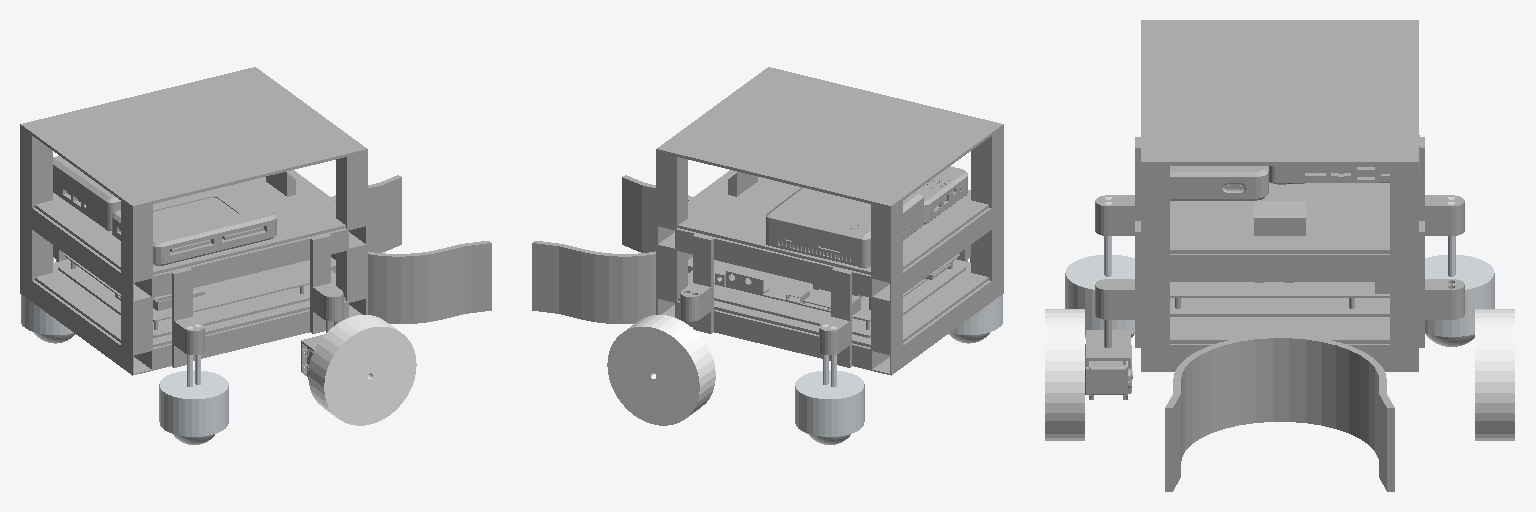
The robot description file, URDF, robot "model":
<?xml version="1.0" encoding="utf-8"?>
<!-- This URDF was automatically created by SolidWorks to URDF Exporter! Originally created by [author] ([email redacted]) 
     Commit Version: 1.5.1-0-g916b5db  Build Version: 1.5.7152.31018
     For more information, please see http://wiki.ros.org/sw_urdf_exporter -->
<robot
  name="model">
  <link
    name="base_link">
    <inertial>
      <origin
        xyz="-0.081169 0.0021174 -0.095903"
        rpy="0 0 0" />
      <mass
        value="2.6044" />
      <inertia
        ixx="0.0048774"
        ixy="-4.1979E-07"
        ixz="9.09E-06"
        iyy="0.0056126"
        iyz="-3.2255E-07"
        izz="0.0098576" />
    </inertial>
    <visual>
      <origin
        xyz="0 0 0"
        rpy="0 0 0" />
      <geometry>
        <mesh
          filename="package://model/meshes/base_link.STL" />
      </geometry>
      <material
        name="">
        <color
          rgba="0.75294 0.75294 0.75294 1" />
      </material>
    </visual>
    <collision>
      <origin
        xyz="0 0 0"
        rpy="0 0 0" />
      <geometry>
        <mesh
          filename="package://model/meshes/base_link.STL" />
      </geometry>
    </collision>
  </link>
  <link
    name="LFS">
    <inertial>
      <origin
        xyz="0.045553 -0.06062 0.0031624"
        rpy="0 0 0" />
      <mass
        value="0.060681" />
      <inertia
        ixx="1.7187E-05"
        ixy="-1.6485E-08"
        ixz="-1.5645E-07"
        iyy="1.5791E-05"
        iyz="2.9641E-09"
        izz="1.3493E-05" />
    </inertial>
    <visual>
      <origin
        xyz="0 0 0"
        rpy="0 0 0" />
      <geometry>
        <mesh
          filename="package://model/meshes/LFS.STL" />
      </geometry>
      <material
        name="">
        <color
          rgba="0.75294 0.75294 0.75294 1" />
      </material>
    </visual>
    <collision>
      <origin
        xyz="0 0 0"
        rpy="0 0 0" />
      <geometry>
        <mesh
          filename="package://model/meshes/LFS.STL" />
      </geometry>
    </collision>
  </link>
  <joint
    name="LFS"
    type="prismatic">
    <origin
      xyz="-0.0088681 0.084404 -0.1235"
      rpy="1.5708 0 1.5708" />
    <parent
      link="base_link" />
    <child
      link="LFS" />
    <axis
      xyz="0 1 0" />
    <limit
      lower="0"
      upper="0"
      effort="0"
      velocity="0" />
  </joint>
  <link
    name="LFW">
    <inertial>
      <origin
        xyz="0.015 0 0"
        rpy="0 0 0" />
      <mass
        value="0.23932" />
      <inertia
        ixx="0.00030041"
        ixy="-3.498E-37"
        ixz="-2.0379E-37"
        iyy="0.00016815"
        iyz="2.5027E-39"
        izz="0.00016815" />
    </inertial>
    <visual>
      <origin
        xyz="0 0 0"
        rpy="0 0 0" />
      <geometry>
        <mesh
          filename="package://model/meshes/LFW.STL" />
      </geometry>
      <material
        name="">
        <color
          rgba="1 1 1 1" />
      </material>
    </visual>
    <collision>
      <origin
        xyz="0 0 0"
        rpy="0 0 0" />
      <geometry>
        <mesh
          filename="package://model/meshes/LFW.STL" />
      </geometry>
    </collision>
  </link>
  <joint
    name="LFW"
    type="continuous">
    <origin
      xyz="0.063346 -0.069801 0.015044"
      rpy="0 0 0" />
    <parent
      link="LFS" />
    <child
      link="LFW" />
    <axis
      xyz="1 0 0" />
  </joint>
  <link
    name="RFS">
    <inertial>
      <origin
        xyz="-0.019176 -0.060658 0.052192"
        rpy="0 0 0" />
      <mass
        value="0.060681" />
      <inertia
        ixx="1.7187E-05"
        ixy="-1.6485E-08"
        ixz="1.5645E-07"
        iyy="1.5791E-05"
        iyz="-2.9641E-09"
        izz="1.3493E-05" />
    </inertial>
    <visual>
      <origin
        xyz="0 0 0"
        rpy="0 0 0" />
      <geometry>
        <mesh
          filename="package://model/meshes/RFS.STL" />
      </geometry>
      <material
        name="">
        <color
          rgba="0.75294 0.75294 0.75294 1" />
      </material>
    </visual>
    <collision>
      <origin
        xyz="0 0 0"
        rpy="0 0 0" />
      <geometry>
        <mesh
          filename="package://model/meshes/RFS.STL" />
      </geometry>
    </collision>
  </link>
  <joint
    name="RFS"
    type="prismatic">
    <origin
      xyz="-0.057897 -0.11078 -0.1235"
      rpy="1.5708 0 1.5708" />
    <parent
      link="base_link" />
    <child
      link="RFS" />
    <axis
      xyz="0 1 0" />
    <limit
      lower="0"
      upper="0"
      effort="0"
      velocity="0" />
  </joint>
  <link
    name="RFW">
    <inertial>
      <origin
        xyz="-0.015 0 0"
        rpy="0 0 0" />
      <mass
        value="0.23932" />
      <inertia
        ixx="0.00030041"
        ixy="-3.498E-37"
        ixz="-1.35E-23"
        iyy="0.00016815"
        iyz="2.5027E-39"
        izz="0.00016815" />
    </inertial>
    <visual>
      <origin
        xyz="0 0 0"
        rpy="0 0 0" />
      <geometry>
        <mesh
          filename="package://model/meshes/RFW.STL" />
      </geometry>
      <material
        name="">
        <color
          rgba="1 1 1 1" />
      </material>
    </visual>
    <collision>
      <origin
        xyz="0 0 0"
        rpy="0 0 0" />
      <geometry>
        <mesh
          filename="package://model/meshes/RFW.STL" />
      </geometry>
    </collision>
  </link>
  <joint
    name="RFW"
    type="continuous">
    <origin
      xyz="-0.036969 -0.069799 0.064073"
      rpy="0 0 0" />
    <parent
      link="RFS" />
    <child
      link="RFW" />
    <axis
      xyz="1 0 0" />
  </joint>
  <link
    name="LBS">
    <inertial>
      <origin
        xyz="0 -0.074083 -2.7756E-17"
        rpy="0 0 0" />
      <mass
        value="0.2491" />
      <inertia
        ixx="0.0001269"
        ixy="-3.8633E-20"
        ixz="-1.4501E-13"
        iyy="0.00015557"
        iyz="-3.1934E-20"
        izz="0.00012707" />
    </inertial>
    <visual>
      <origin
        xyz="0 0 0"
        rpy="0 0 0" />
      <geometry>
        <mesh
          filename="package://model/meshes/LBS.STL" />
      </geometry>
      <material
        name="">
        <color
          rgba="0.89804 0.91765 0.92941 1" />
      </material>
    </visual>
    <collision>
      <origin
        xyz="0 0 0"
        rpy="0 0 0" />
      <geometry>
        <mesh
          filename="package://model/meshes/LBS.STL" />
      </geometry>
    </collision>
  </link>
  <joint
    name="LBS"
    type="prismatic">
    <origin
      xyz="-0.15682 0.13 -0.1235"
      rpy="1.5708 0 1.5708" />
    <parent
      link="base_link" />
    <child
      link="LBS" />
    <axis
      xyz="0 1 0" />
    <limit
      lower="0"
      upper="0"
      effort="0"
      velocity="0" />
  </joint>
  <link
    name="LBW">
    <inertial>
      <origin
        xyz="0 0 -2.77555756156289E-17"
        rpy="0 0 0" />
      <mass
        value="0.175020843969803" />
      <inertia
        ixx="4.38252193300387E-05"
        ixy="-7.23866843780144E-39"
        ixz="5.11152697542854E-41"
        iyy="4.41752610179783E-05"
        iyz="-7.44886776973365E-40"
        izz="4.38252193300387E-05" />
    </inertial>
    <visual>
      <origin
        xyz="0 0 0"
        rpy="0 0 0" />
      <geometry>
        <mesh
          filename="package://model/meshes/LBW.STL" />
      </geometry>
      <material
        name="">
        <color
          rgba="0.898039215686275 0.917647058823529 0.929411764705882 1" />
      </material>
    </visual>
    <collision>
      <origin
        xyz="0 0 0"
        rpy="0 0 0" />
      <geometry>
        <mesh
          filename="package://model/meshes/LBW.STL" />
      </geometry>
    </collision>
  </link>
  <joint
    name="LBW"
    type="continuous">
    <origin
      xyz="0 -0.0948 0"
      rpy="0 0 -1.5708" />
    <parent
      link="LBS" />
    <child
      link="LBW" />
    <axis
      xyz="0 1 0" />
  </joint>
  <link
    name="RBS">
    <inertial>
      <origin
        xyz="1.04083408558608E-17 -0.074082955009898 0"
        rpy="0 0 0" />
      <mass
        value="0.249098381596498" />
      <inertia
        ixx="0.000126903429659009"
        ixy="4.81515170760882E-21"
        ixz="-1.45013679412103E-13"
        iyy="0.000155566169476371"
        iyz="-3.21543682402525E-20"
        izz="0.000127067954523872" />
    </inertial>
    <visual>
      <origin
        xyz="0 0 0"
        rpy="0 0 0" />
      <geometry>
        <mesh
          filename="package://model/meshes/RBS.STL" />
      </geometry>
      <material
        name="">
        <color
          rgba="0.898039215686275 0.917647058823529 0.929411764705882 1" />
      </material>
    </visual>
    <collision>
      <origin
        xyz="0 0 0"
        rpy="0 0 0" />
      <geometry>
        <mesh
          filename="package://model/meshes/RBS.STL" />
      </geometry>
    </collision>
  </link>
  <joint
    name="RBS"
    type="prismatic">
    <origin
      xyz="-0.15682 -0.13 -0.1235"
      rpy="1.5708 0 1.5708" />
    <parent
      link="base_link" />
    <child
      link="RBS" />
    <axis
      xyz="0 1 0" />
    <limit
      lower="0"
      upper="0"
      effort="0"
      velocity="0" />
  </joint>
  <link
    name="RBW">
    <inertial>
      <origin
        xyz="2.7756E-17 1.0408E-17 0"
        rpy="0 0 0" />
      <mass
        value="0.17502" />
      <inertia
        ixx="4.3825E-05"
        ixy="1.8482E-38"
        ixz="5.1115E-41"
        iyy="4.4175E-05"
        iyz="-2.7002E-40"
        izz="4.3825E-05" />
    </inertial>
    <visual>
      <origin
        xyz="0 0 0"
        rpy="0 0 0" />
      <geometry>
        <mesh
          filename="package://model/meshes/RBW.STL" />
      </geometry>
      <material
        name="">
        <color
          rgba="0.89804 0.91765 0.92941 1" />
      </material>
    </visual>
    <collision>
      <origin
        xyz="0 0 0"
        rpy="0 0 0" />
      <geometry>
        <mesh
          filename="package://model/meshes/RBW.STL" />
      </geometry>
    </collision>
  </link>
  <joint
    name="RBW"
    type="continuous">
    <origin
      xyz="0 -0.0948 0"
      rpy="0 0 -1.5708" />
    <parent
      link="RBS" />
    <child
      link="RBW" />
    <axis
      xyz="0 1 0" />
  </joint>
  <link
    name="fcam">
    <inertial>
      <origin
        xyz="0.00044553 -1.1063E-05 0.0012982"
        rpy="0 0 0" />
      <mass
        value="0.043612" />
      <inertia
        ixx="2.3571E-05"
        ixy="-1.0181E-09"
        ixz="2.1758E-08"
        iyy="4.2948E-06"
        iyz="-8.8579E-10"
        izz="2.2106E-05" />
    </inertial>
    <visual>
      <origin
        xyz="0 0 0"
        rpy="0 0 0" />
      <geometry>
        <mesh
          filename="package://model/meshes/fcam.STL" />
      </geometry>
      <material
        name="">
        <color
          rgba="0.79216 0.81961 0.93333 1" />
      </material>
    </visual>
    <collision>
      <origin
        xyz="0 0 0"
        rpy="0 0 0" />
      <geometry>
        <mesh
          filename="package://model/meshes/fcam.STL" />
      </geometry>
    </collision>
  </link>
  <joint
    name="fcam"
    type="fixed">
    <origin
      xyz="0.033176 0 -0.015008"
      rpy="0 0 0" />
    <parent
      link="base_link" />
    <child
      link="fcam" />
    <axis
      xyz="0 0 0" />
  </joint>
  <link
    name="bcam">
    <inertial>
      <origin
        xyz="0.00044553 -1.1063E-05 0.0012982"
        rpy="0 0 0" />
      <mass
        value="0.043612" />
      <inertia
        ixx="2.3571E-05"
        ixy="-1.0183E-09"
        ixz="2.1758E-08"
        iyy="4.2948E-06"
        iyz="-8.8548E-10"
        izz="2.2106E-05" />
    </inertial>
    <visual>
      <origin
        xyz="0 0 0"
        rpy="0 0 0" />
      <geometry>
        <mesh
          filename="package://model/meshes/bcam.STL" />
      </geometry>
      <material
        name="">
        <color
          rgba="0.79216 0.81961 0.93333 1" />
      </material>
    </visual>
    <collision>
      <origin
        xyz="0 0 0"
        rpy="0 0 0" />
      <geometry>
        <mesh
          filename="package://model/meshes/bcam.STL" />
      </geometry>
    </collision>
  </link>
  <joint
    name="bcam"
    type="fixed">
    <origin
      xyz="0.024595 0 -0.050288"
      rpy="0 0.7854 0" />
    <parent
      link="base_link" />
    <child
      link="bcam" />
    <axis
      xyz="0 0 0" />
  </joint>
  <link
    name="Lidar">
    <inertial>
      <origin
        xyz="0.013523 0.00046196 -0.028765"
        rpy="0 0 0" />
      <mass
        value="0.073085" />
      <inertia
        ixx="1.9581E-05"
        ixy="-1.0393E-07"
        ixz="-4.2839E-07"
        iyy="2.4125E-05"
        iyz="9.4271E-09"
        izz="4.1418E-05" />
    </inertial>
    <visual>
      <origin
        xyz="0 0 0"
        rpy="0 0 0" />
      <geometry>
        <mesh
          filename="package://model/meshes/Lidar.STL" />
      </geometry>
      <material
        name="">
        <color
          rgba="0.79216 0.81961 0.93333 1" />
      </material>
    </visual>
    <collision>
      <origin
        xyz="0 0 0"
        rpy="0 0 0" />
      <geometry>
        <mesh
          filename="package://model/meshes/Lidar.STL" />
      </geometry>
    </collision>
  </link>
  <joint
    name="Lidar"
    type="fixed">
    <origin
      xyz="-0.1494 -0.00099405 0.0565"
      rpy="0 0 0" />
    <parent
      link="base_link" />
    <child
      link="Lidar" />
    <axis
      xyz="0 0 0" />
  </joint>
  <link
    name="imu">
    <inertial>
      <origin
        xyz="0 0 0"
        rpy="0 0 0" />
      <mass
        value="0" />
      <inertia
        ixx="0"
        ixy="0"
        ixz="0"
        iyy="0"
        iyz="0"
        izz="0" />
    </inertial>
    <visual>
      <origin
        xyz="0 0 0"
        rpy="0 0 0" />
      <geometry>
        <mesh
          filename="package://model/meshes/imu.STL" />
      </geometry>
      <material
        name="">
        <color
          rgba="1 1 1 1" />
      </material>
    </visual>
    <collision>
      <origin
        xyz="0 0 0"
        rpy="0 0 0" />
      <geometry>
        <mesh
          filename="package://model/meshes/imu.STL" />
      </geometry>
    </collision>
  </link>
  <joint
    name="imu"
    type="fixed">
    <origin
      xyz="-0.0063056 -0.0012093 0.005"
      rpy="0 0 0" />
    <parent
      link="base_link" />
    <child
      link="imu" />
    <axis
      xyz="0 0 0" />
  </joint>
</robot>

--- Render facts (derived) ---
3 views of the same robot in one strip: view 1: azimuth 30°, elevation 25°; view 2: azimuth 150°, elevation 25°; view 3: azimuth 270°, elevation 25° (orthographic).
Robot: model — 13 links, 12 joints (4 continuous, 4 prismatic, 4 fixed); root link base_link; default pose: all joints at 0.
Visible links, largest first — view 1: base_link, RFW, RBS, LBS, RFS; view 2: base_link, LFW, LBS, RBS; view 3: base_link, LFW, RFW, LBS, RFS, RBS.
Boxes of the visible links, x1,y1,x2,y2 form: base_link: [20, 67, 491, 375]; RFW: [308, 315, 416, 425]; RBS: [159, 324, 228, 436]; LBS: [21, 257, 73, 334]; RFS: [301, 291, 339, 376]; base_link: [532, 67, 1003, 375]; LFW: [607, 315, 715, 425]; LBS: [795, 324, 864, 436]; RBS: [950, 257, 1002, 334]; base_link: [1095, 20, 1464, 491]; LFW: [1475, 309, 1514, 440]; RFW: [1045, 309, 1084, 440]; LBS: [1425, 197, 1494, 336]; RFS: [1085, 280, 1132, 399]; RBS: [1065, 197, 1134, 333].
Bounding box of the posed robot: 0.3983 × 0.3555 × 0.2462 m (x, y, z).
Meshes: 13 distinct files referenced, 8 mesh visuals loaded (8 binary STL); not drawn: 5 (reference not matched to a file when rendering).